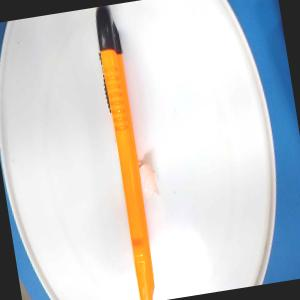estilete: (91, 4, 162, 300)
